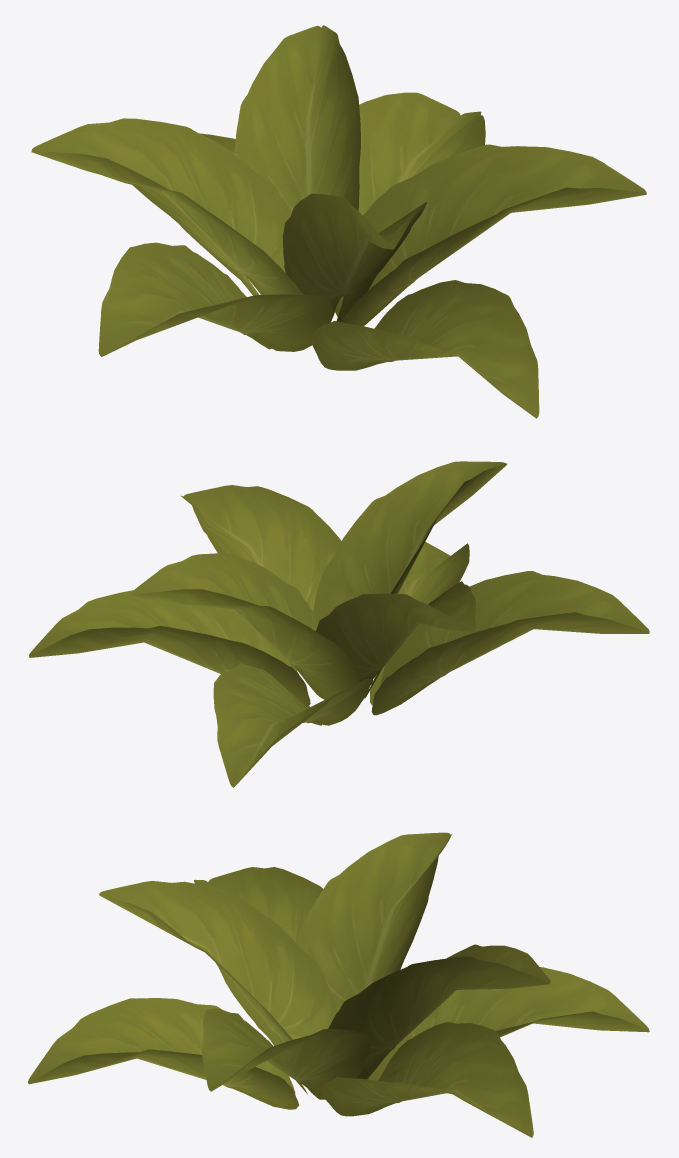
Rendered from groundplant.fbx.
3 renders of one model, top to bottom at view 1: azimuth 30°, elevation 25°; view 2: azimuth 150°, elevation 25°; view 3: azimuth 270°, elevation 25°, orthographic. The views are drawn at different scales.
Visible parts, largest first — view 1: groundplant; view 2: groundplant; view 3: groundplant.
Boxes of the visible parts, bbox=[...] form: groundplant: bbox=[31, 25, 646, 418]; groundplant: bbox=[29, 461, 649, 787]; groundplant: bbox=[28, 832, 649, 1137].
Size of the model in its own units: 219 by 97.71 by 244.
